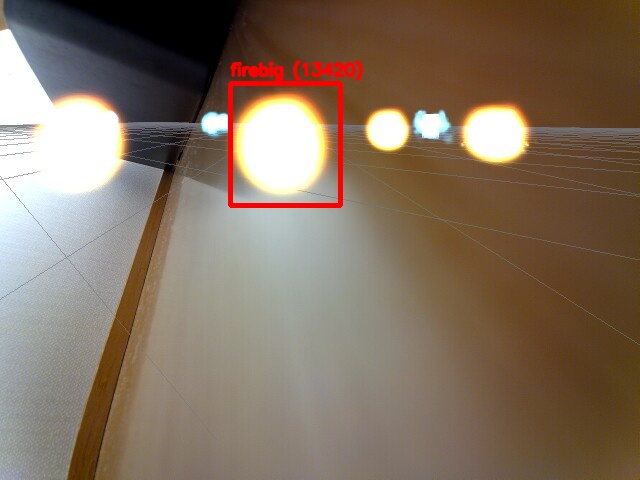firebig: (230, 83, 340, 205)
